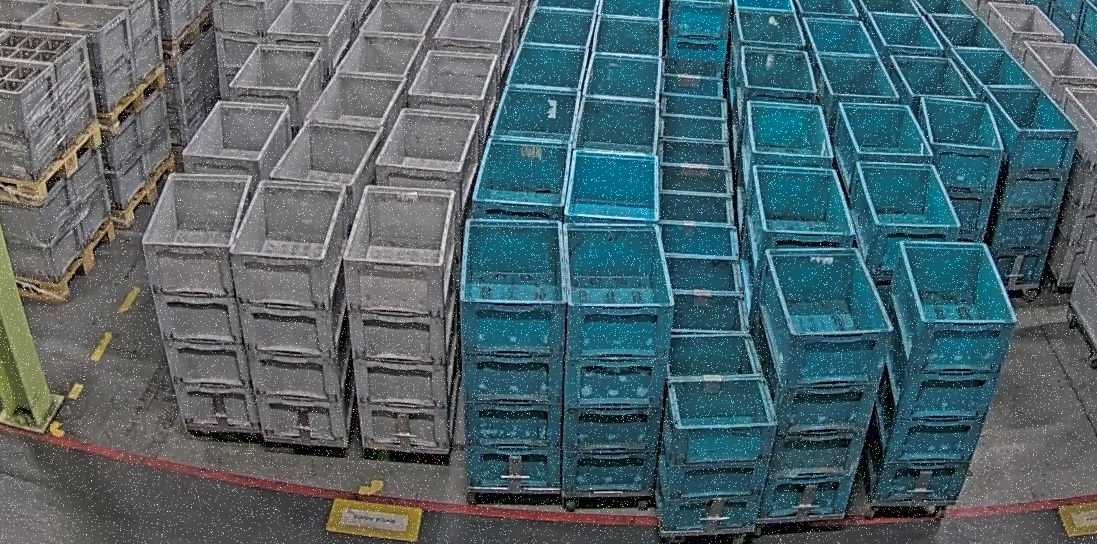4G: (228, 179, 356, 444), (341, 184, 460, 451), (140, 172, 261, 433)
B4: (863, 239, 1021, 502), (753, 246, 895, 519), (562, 221, 677, 494), (458, 217, 567, 491), (916, 96, 1006, 244)
B8: (655, 332, 779, 533)
